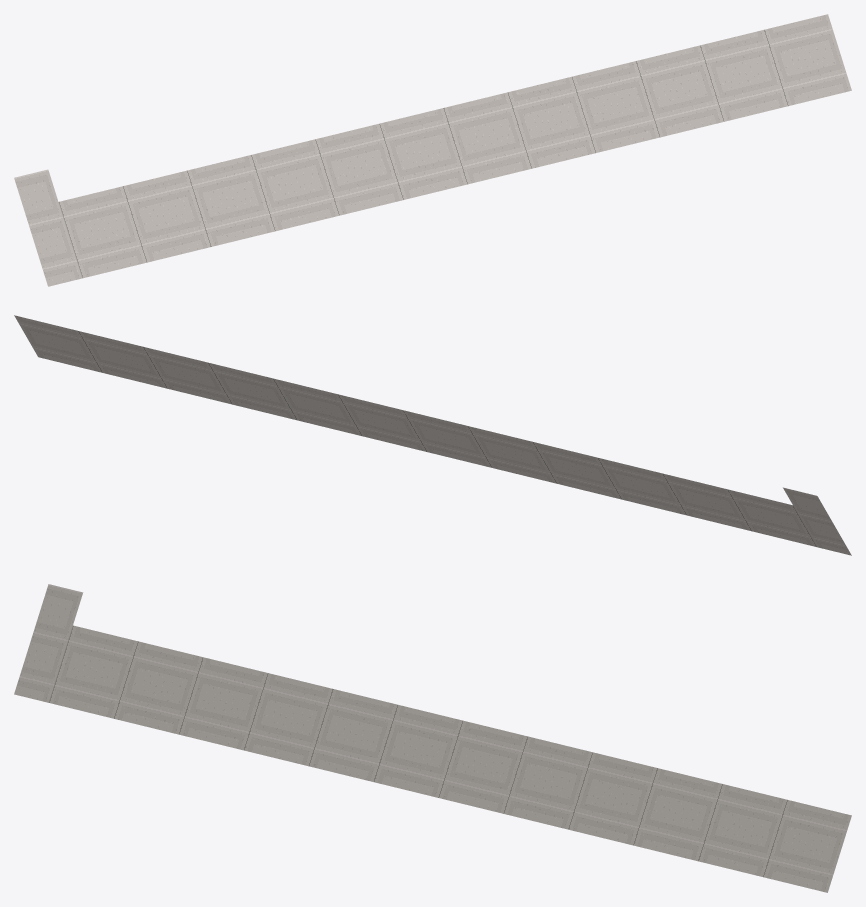
File: kd_stage_135d18_1_16_bounded_piece_0.glb
3 renders of one model, top to bottom at view 1: azimuth 30°, elevation 25°; view 2: azimuth 150°, elevation 25°; view 3: azimuth 330°, elevation 25°, orthographic.
Visible parts, largest first — view 1: kd_stage_135d18_1_16_bounded_piece_0; view 2: kd_stage_135d18_1_16_bounded_piece_0; view 3: kd_stage_135d18_1_16_bounded_piece_0.
Boxes of the visible parts, bbox=[...] form: kd_stage_135d18_1_16_bounded_piece_0: bbox=[14, 14, 851, 286]; kd_stage_135d18_1_16_bounded_piece_0: bbox=[14, 315, 851, 555]; kd_stage_135d18_1_16_bounded_piece_0: bbox=[14, 584, 851, 892].
Size of the model in its own units: 10.07 by 1.01 by 0.7399.
Materials: 1 (1 with a texture image).
